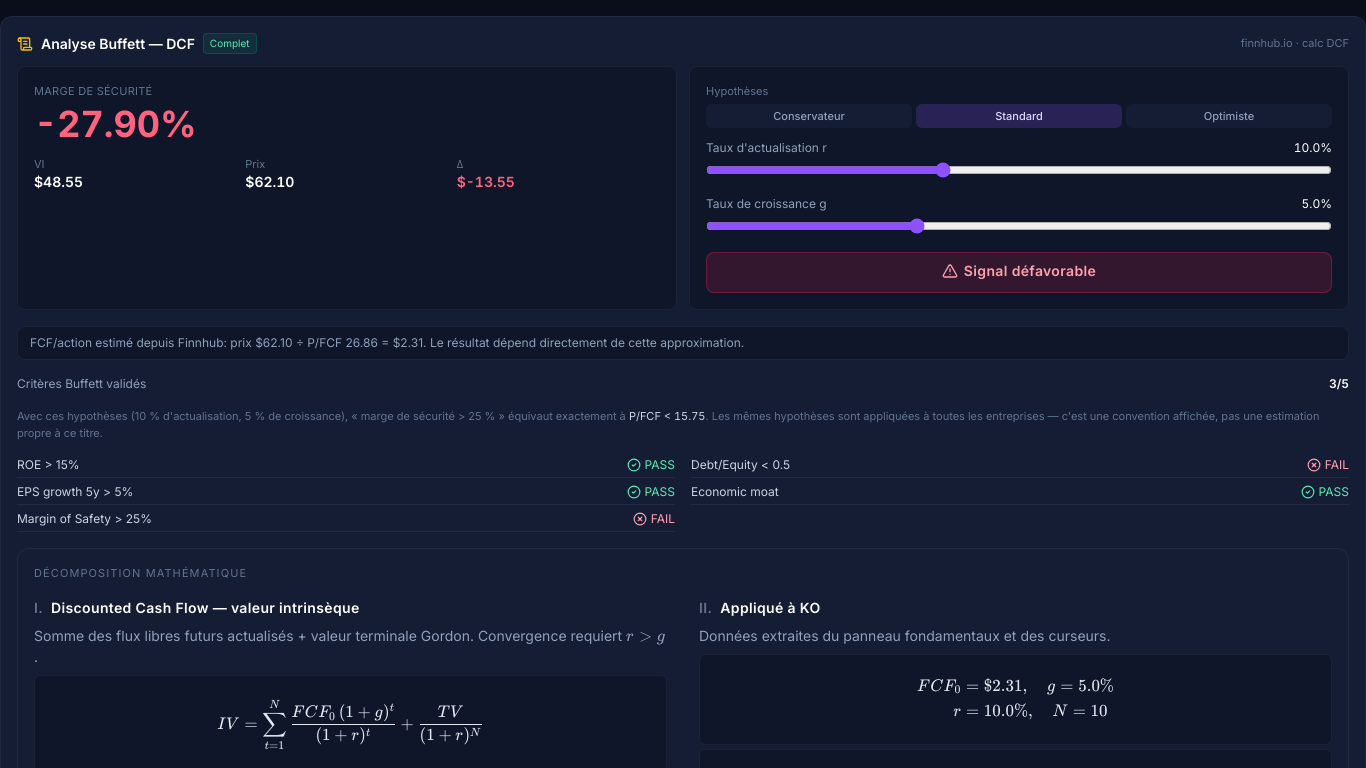
Test case: BuffettAnalysisPanel › warns when growth is greater than or equal to discount rate
Set the slider named "Taux de croissance" to "0.10": [1121, 226] box 706,218 -> 1332,234
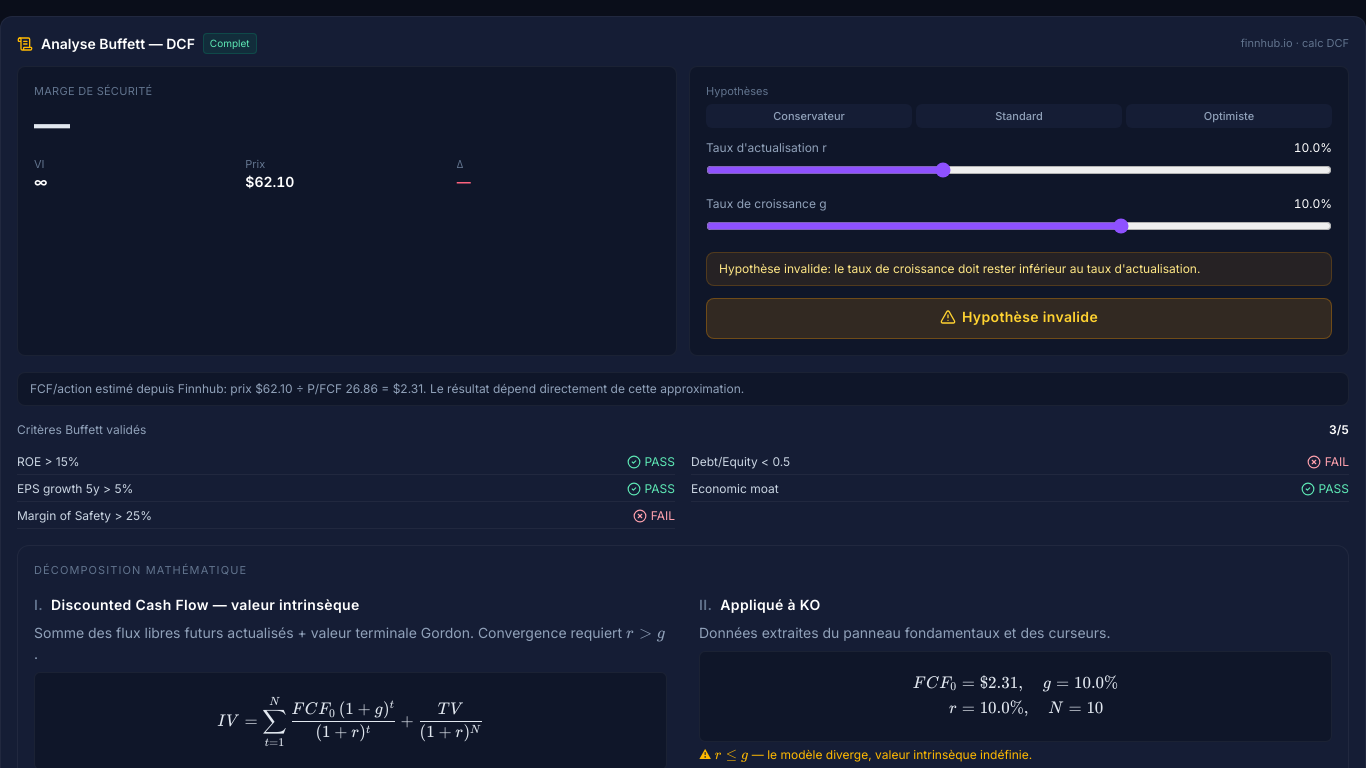
Now the text "croissance doit rester inférieur" is shown, box 719,261 -> 1200,276
